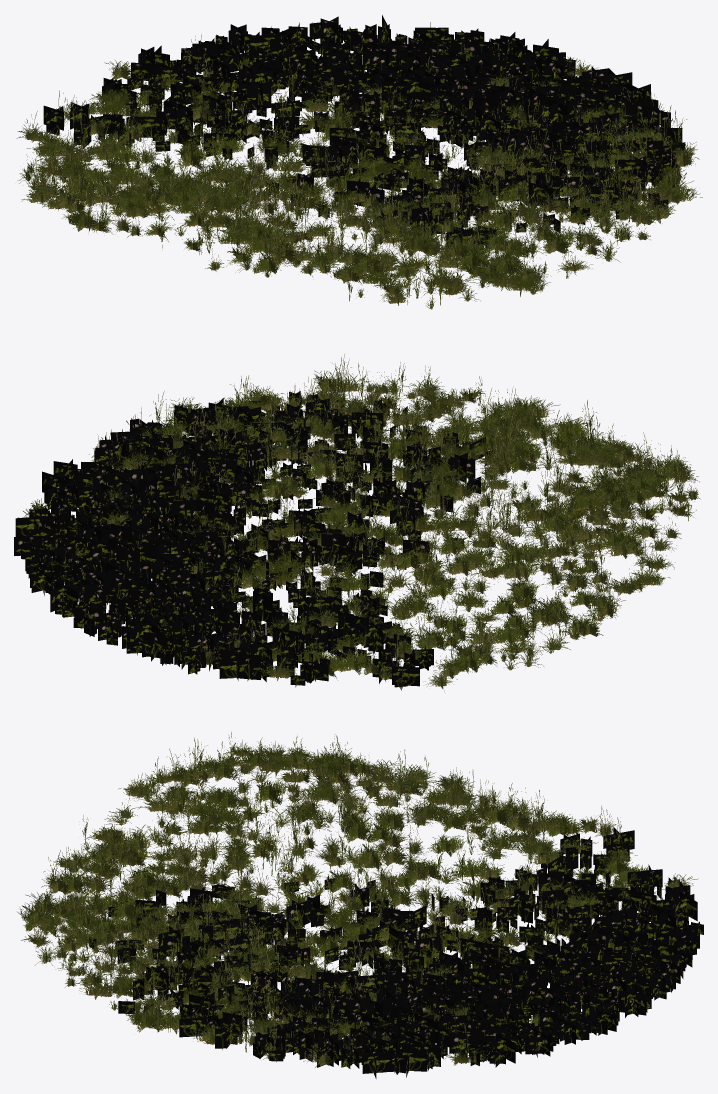
Rendered from Grass.fbx.
The picture shows the model from 3 angles, top to bottom: view 1: azimuth 30°, elevation 25°; view 2: azimuth 150°, elevation 25°; view 3: azimuth 270°, elevation 25°; orthographic projection.
Visible parts, largest first — view 1: center_pit_grass_LOD1.002, center_pit_sorrel_LOD1; view 2: center_pit_grass_LOD1.002, center_pit_sorrel_LOD1; view 3: center_pit_grass_LOD1.002, center_pit_sorrel_LOD1.
Boxes of the visible parts, x1=… form: center_pit_grass_LOD1.002: x1=16, y1=34, x2=702, y2=309; center_pit_sorrel_LOD1: x1=43, y1=15, x2=685, y2=253; center_pit_grass_LOD1.002: x1=23, y1=354, x2=699, y2=690; center_pit_sorrel_LOD1: x1=14, y1=391, x2=497, y2=690; center_pit_grass_LOD1.002: x1=17, y1=732, x2=698, y2=1067; center_pit_sorrel_LOD1: x1=89, y1=827, x2=703, y2=1078.
Bounding box in the file's own units: 1818 × 272 × 1833.
Materials: 2 (2 with a texture image).
